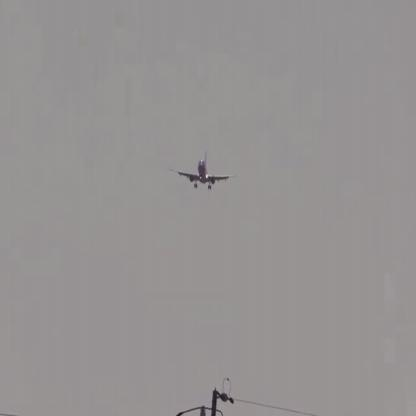CIV_Plane: (169, 154, 236, 190)
